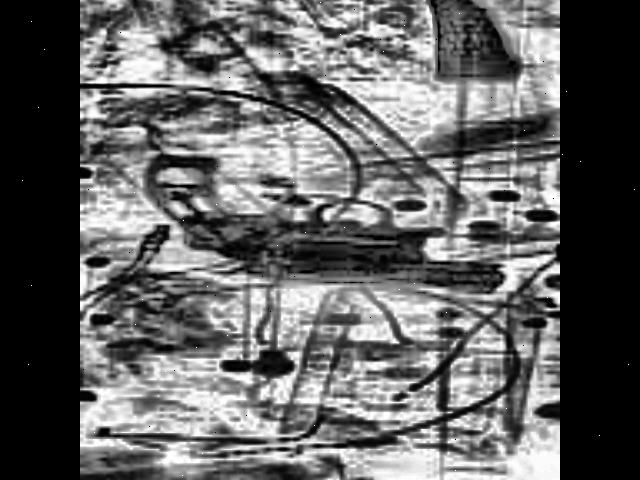Gun: (138, 147, 502, 293)
